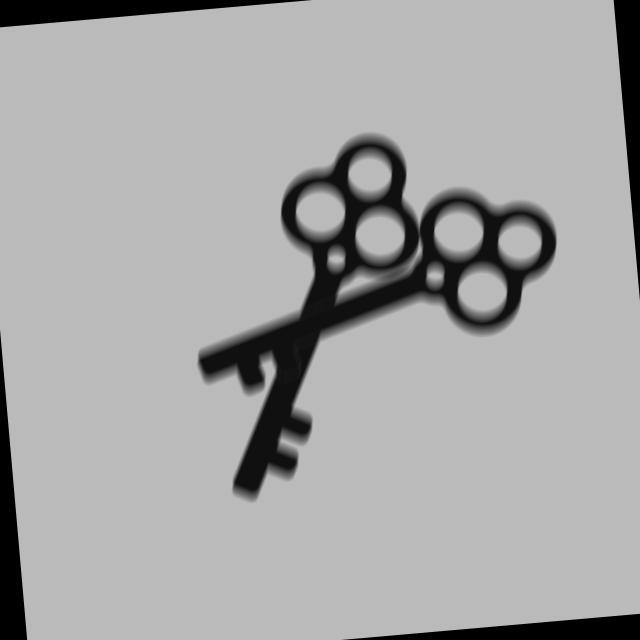key: (176, 176, 572, 424), (216, 118, 436, 527)
